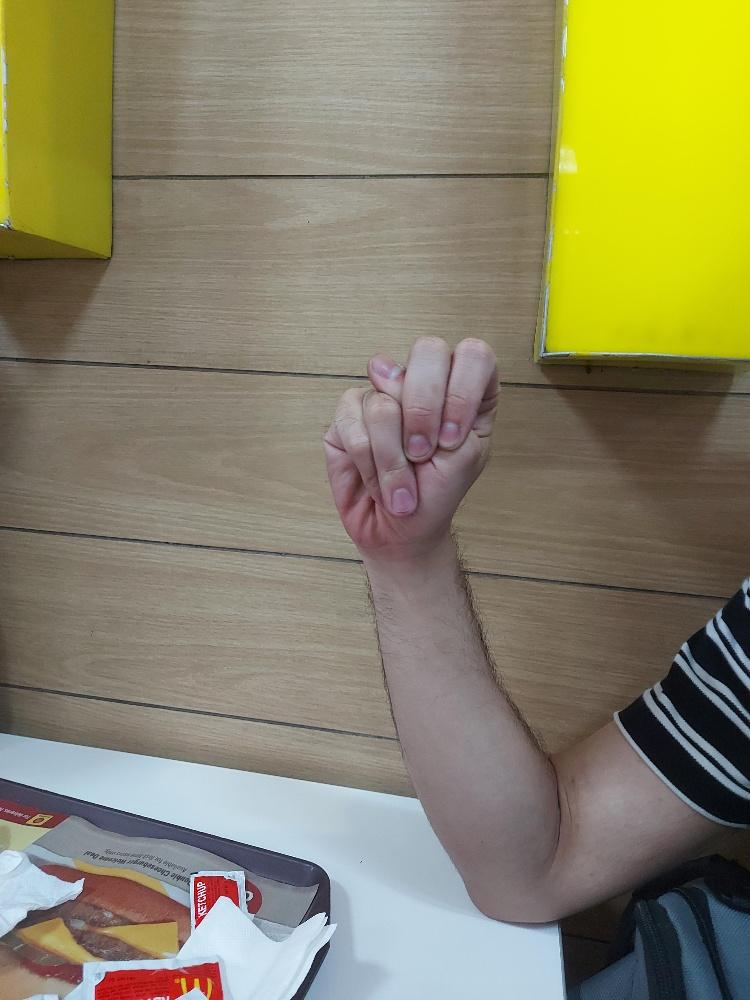n: (321, 330, 500, 565)
